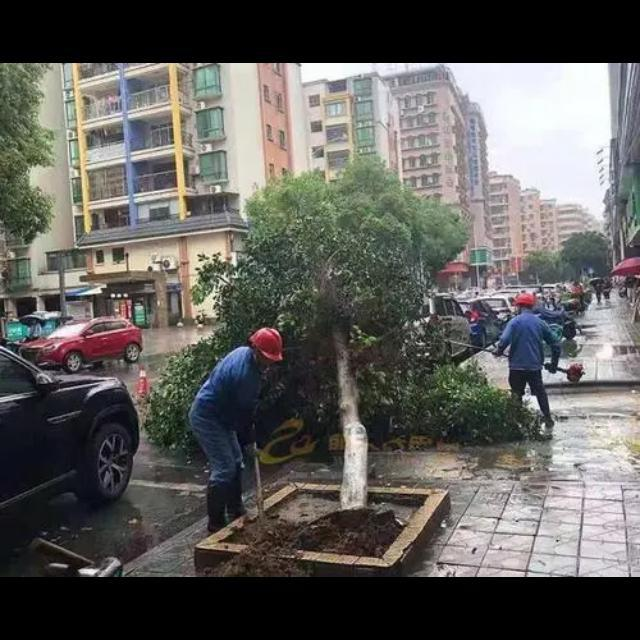fallen_tree: (151, 171, 545, 549)
